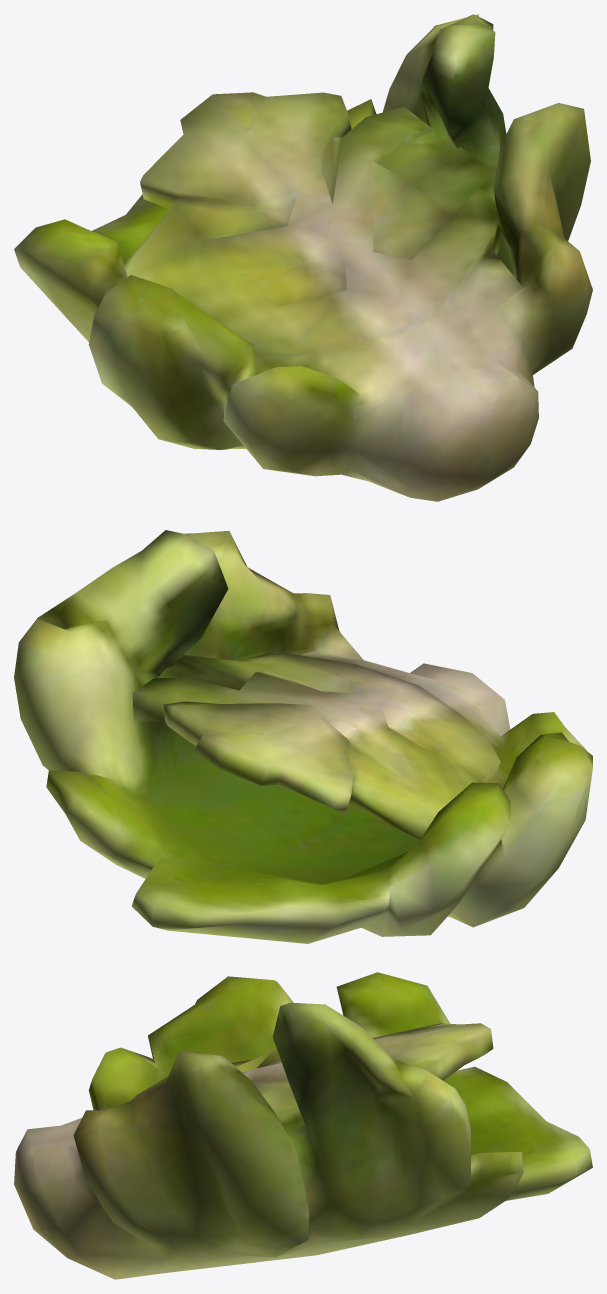
Rendered from lettuce.glb.
3 renders of one model, top to bottom at view 1: azimuth 30°, elevation 25°; view 2: azimuth 150°, elevation 25°; view 3: azimuth 270°, elevation 25°, orthographic. The views are drawn at different scales.
Parts seen in each view (by area): view 1: Lettuce; view 2: Lettuce; view 3: Lettuce.
Part boxes in pixels (bbox=[...]): Lettuce: bbox=[14, 14, 592, 501]; Lettuce: bbox=[14, 530, 592, 943]; Lettuce: bbox=[14, 972, 592, 1279].
Bounding box in the file's own units: 1.68 × 1.19 × 1.91.
1 material, 1 textured.
